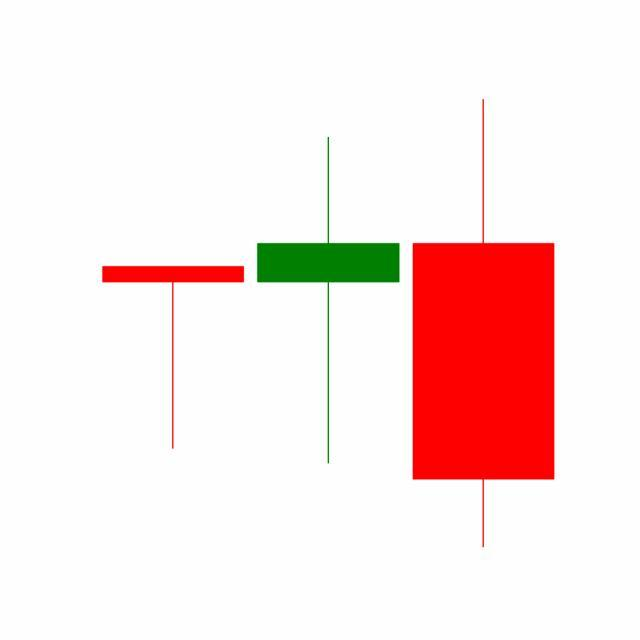Spinning Top: (250, 134, 407, 468)
